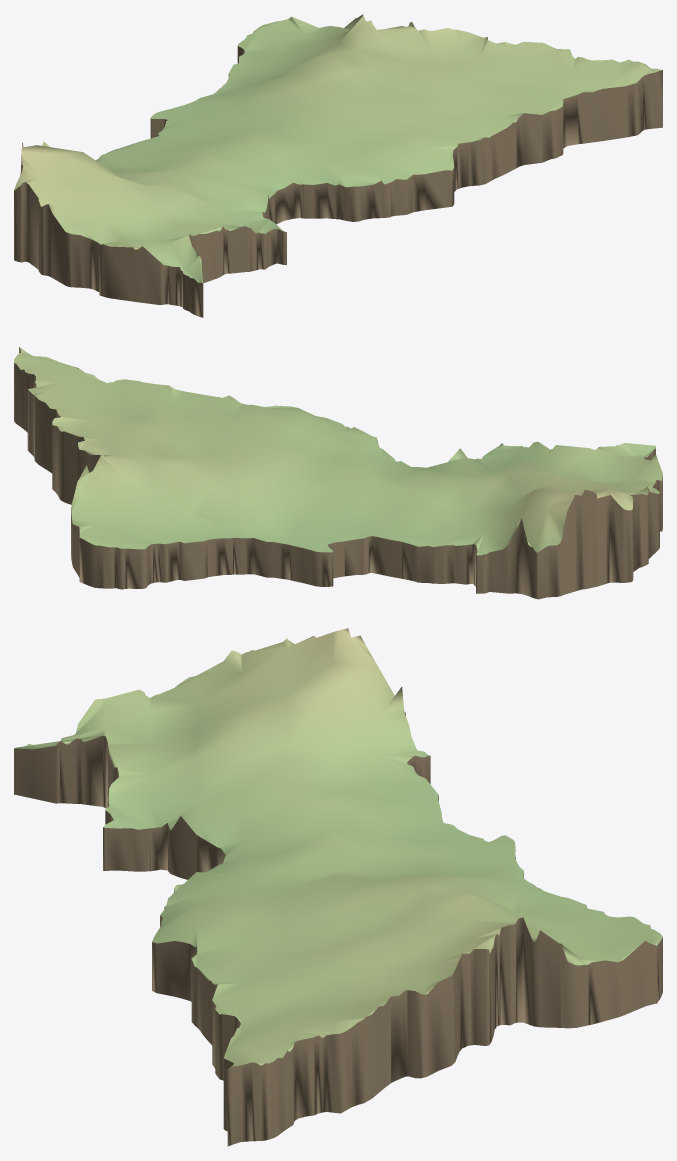
File: CAF.glb
The picture shows the model from 3 angles, top to bottom: view 1: azimuth 30°, elevation 25°; view 2: azimuth 150°, elevation 25°; view 3: azimuth 270°, elevation 25°; orthographic projection. The views are drawn at different scales.
Visible parts, largest first — view 1: CAF; view 2: CAF; view 3: CAF.
Part boxes in pixels (box(x1,y1,x2,y2)): CAF: box(14, 14, 662, 317); CAF: box(14, 347, 662, 599); CAF: box(14, 628, 662, 1146).
Size of the model in its own units: 1.83 by 0.2727 by 1.24.
